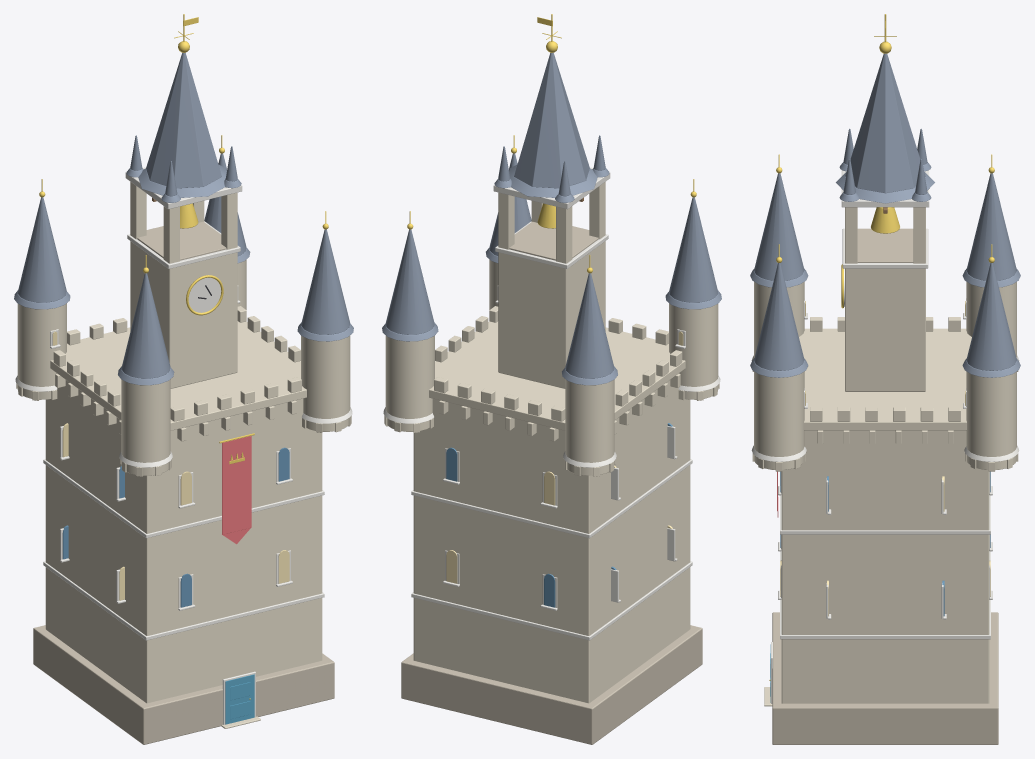
The model's file is castle_donjon.fbx.
3 renders of one model, left to right at view 1: azimuth 30°, elevation 25°; view 2: azimuth 150°, elevation 25°; view 3: azimuth 270°, elevation 25°, orthographic. The views are drawn at different scales.
Visible parts, largest first — view 1: Visual; view 2: Visual; view 3: Visual.
Boxes of the visible parts, x1,y1,x2,y2 form: Visual: [14, 14, 353, 744]; Visual: [382, 14, 721, 744]; Visual: [750, 14, 1020, 744].
Size of what is drawn, in the model's own units: 2345 by 6534 by 2345.
